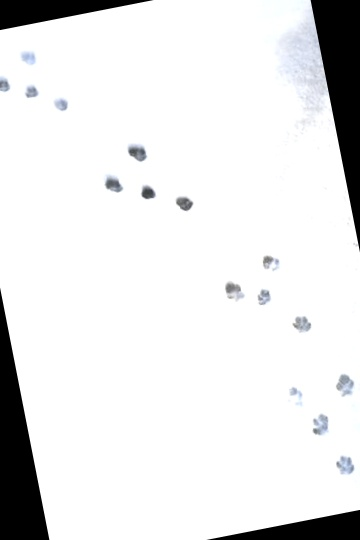rabbit: (78, 127, 213, 254)
